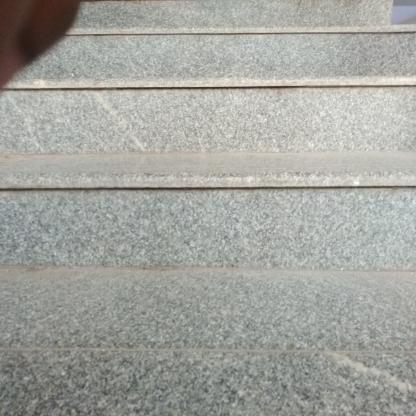stairs: (4, 87, 416, 413)
